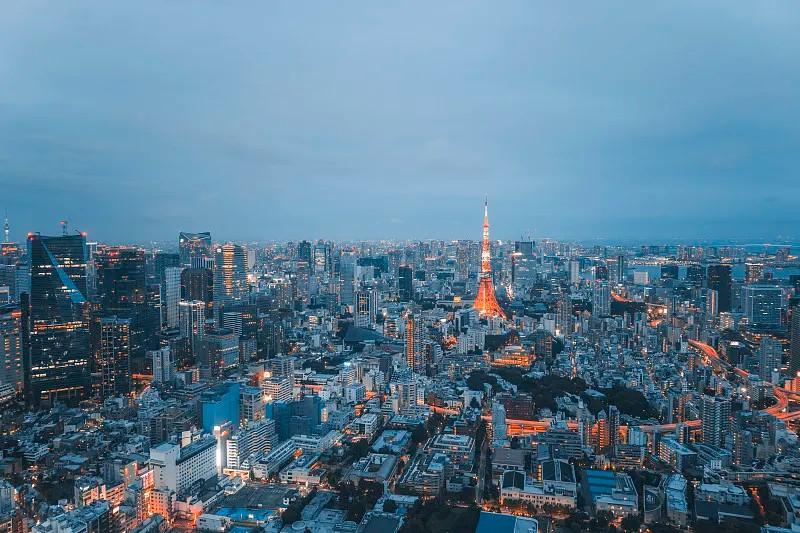Tokyo: (472, 192, 511, 321)
